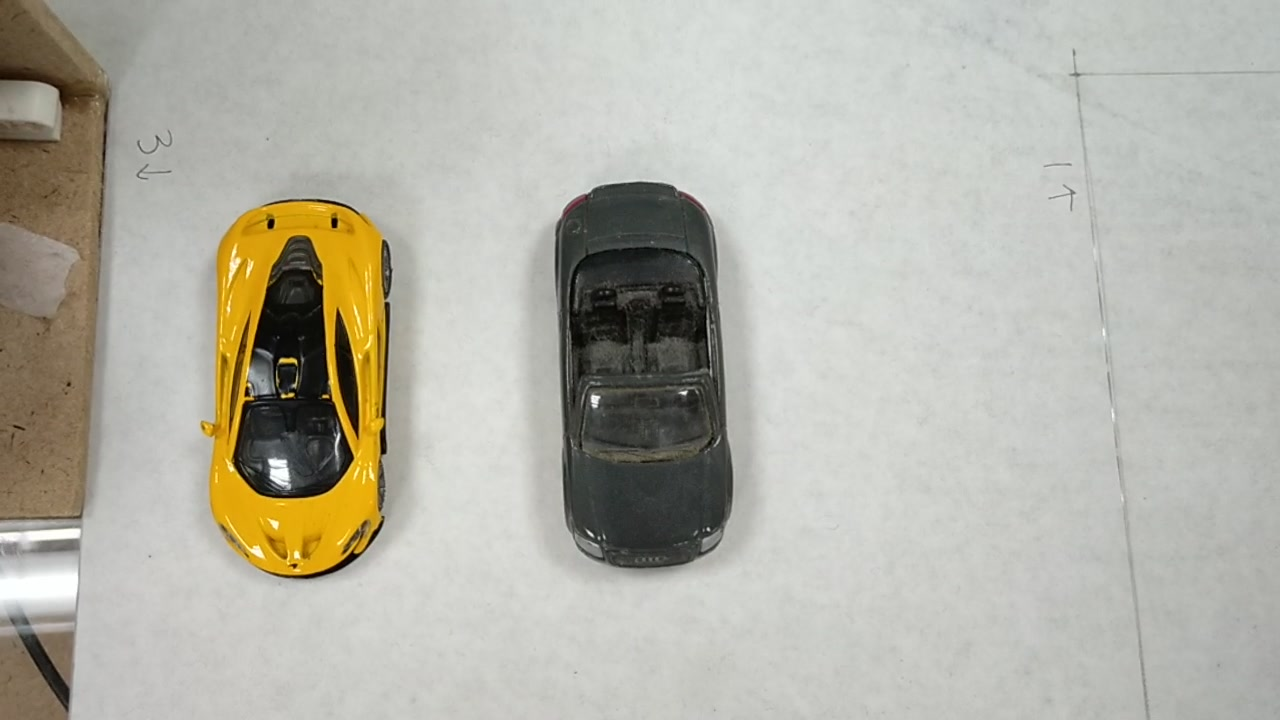car: (210, 204, 401, 555), (562, 188, 728, 536)
